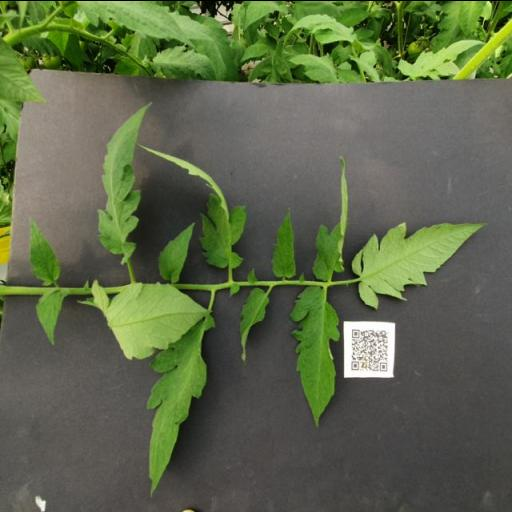Healthy: (146, 313, 216, 497), (352, 212, 486, 308), (96, 100, 153, 264), (290, 284, 340, 426), (238, 286, 270, 364), (28, 216, 62, 285), (156, 222, 195, 282), (35, 288, 68, 344), (270, 206, 296, 276)
